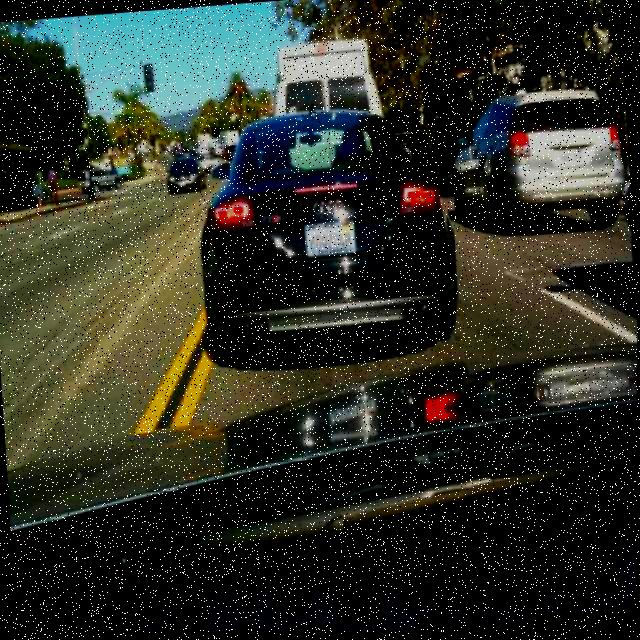license_plate: (304, 220, 357, 257), (561, 148, 582, 162)
